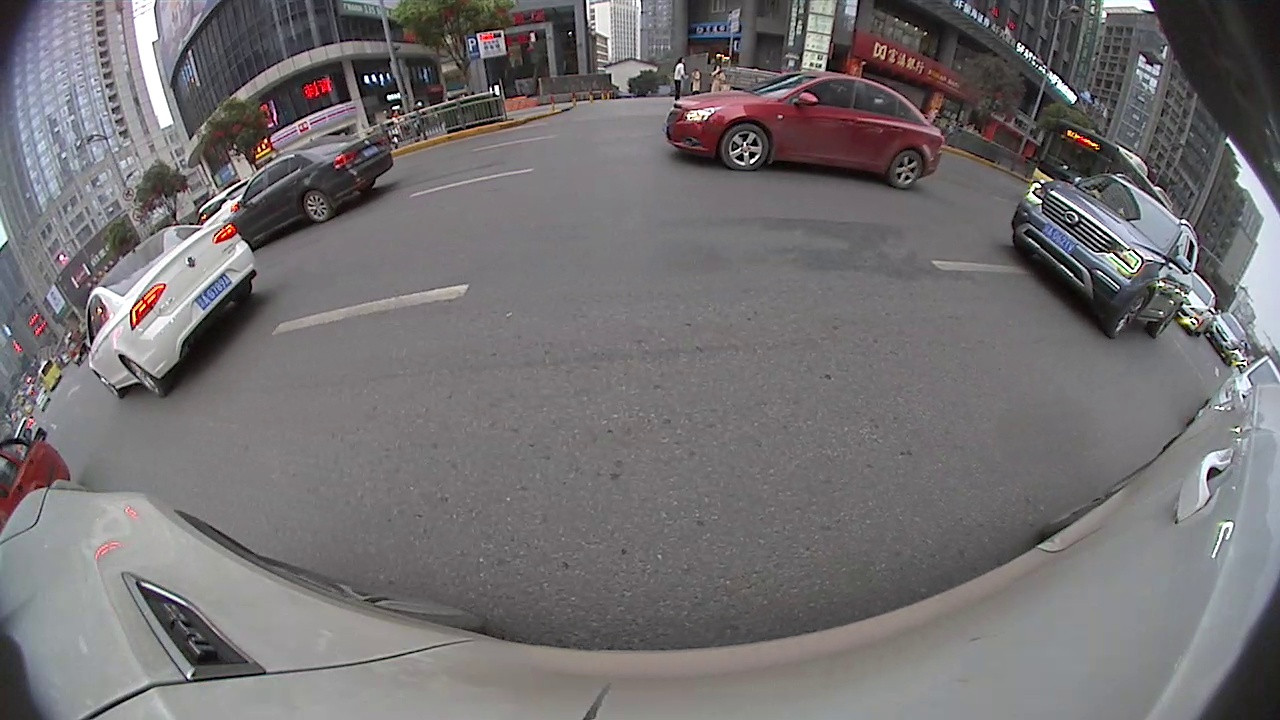bus: (1026, 115, 1178, 208)
car: (663, 69, 946, 193), (1009, 173, 1203, 344), (83, 220, 263, 402), (216, 134, 395, 249)
front: (720, 122, 769, 174), (1108, 285, 1153, 341)
rear: (124, 354, 169, 403), (888, 149, 923, 191), (301, 189, 331, 225)
